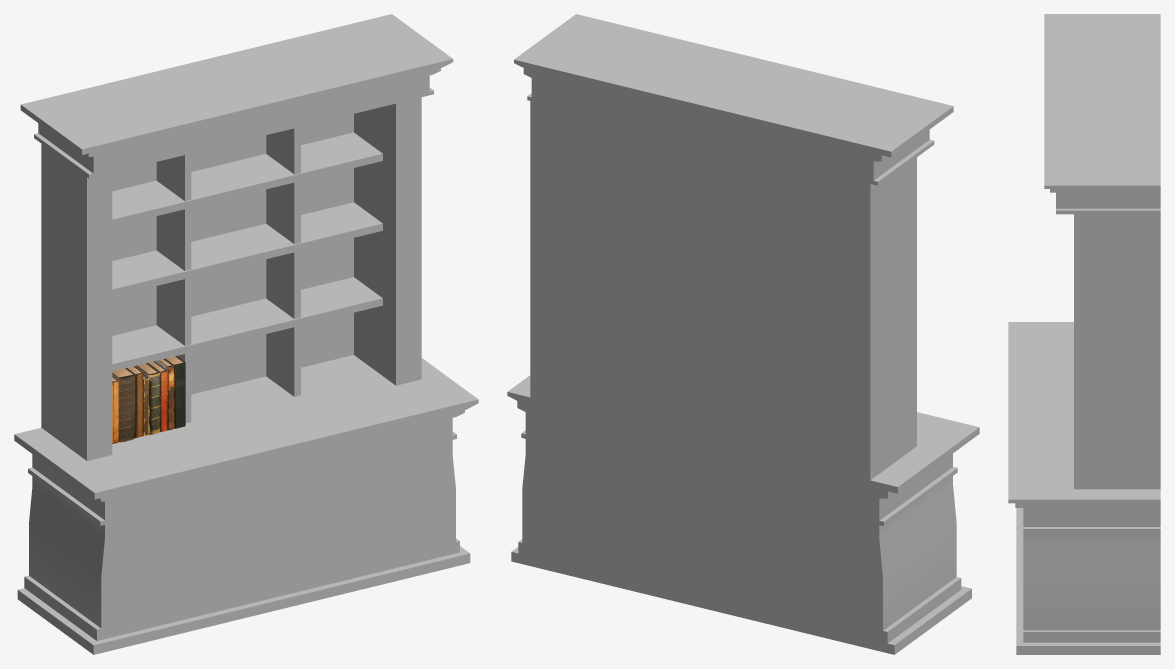
File: cabinetBigBooks.fbx
The picture shows the model from 3 angles, left to right: view 1: azimuth 30°, elevation 25°; view 2: azimuth 150°, elevation 25°; view 3: azimuth 270°, elevation 25°; orthographic projection. The views are drawn at different scales.
Parts seen in each view (by area): view 1: furniture03_Layer1, BOOKS2; view 2: furniture03_Layer1; view 3: furniture03_Layer1.
Part boxes in pixels (x1=…): furniture03_Layer1: x1=14, y1=14, x2=478, y2=654; BOOKS2: x1=112, y1=356, x2=185, y2=443; furniture03_Layer1: x1=507, y1=14, x2=979, y2=654; furniture03_Layer1: x1=1008, y1=14, x2=1160, y2=654.
Size of the model in its own units: 151 by 185 by 54.7.
